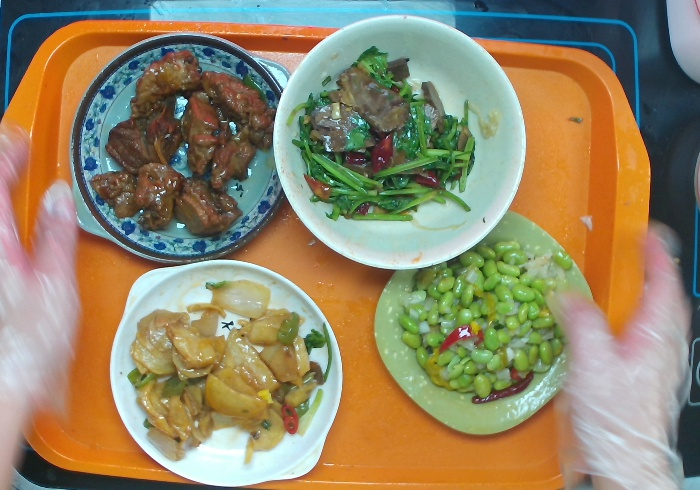NLDX-Bai_Se_Shuang_Er_Die: (108, 254, 347, 485)
NLDX-Bai_Se_Yuan_Wan: (269, 11, 529, 270)
NLDX-Lv_Hua_Fang_Die: (366, 205, 596, 441)
NLDX-Qing_Hua_Shuang_Er_Die: (63, 29, 294, 270)
